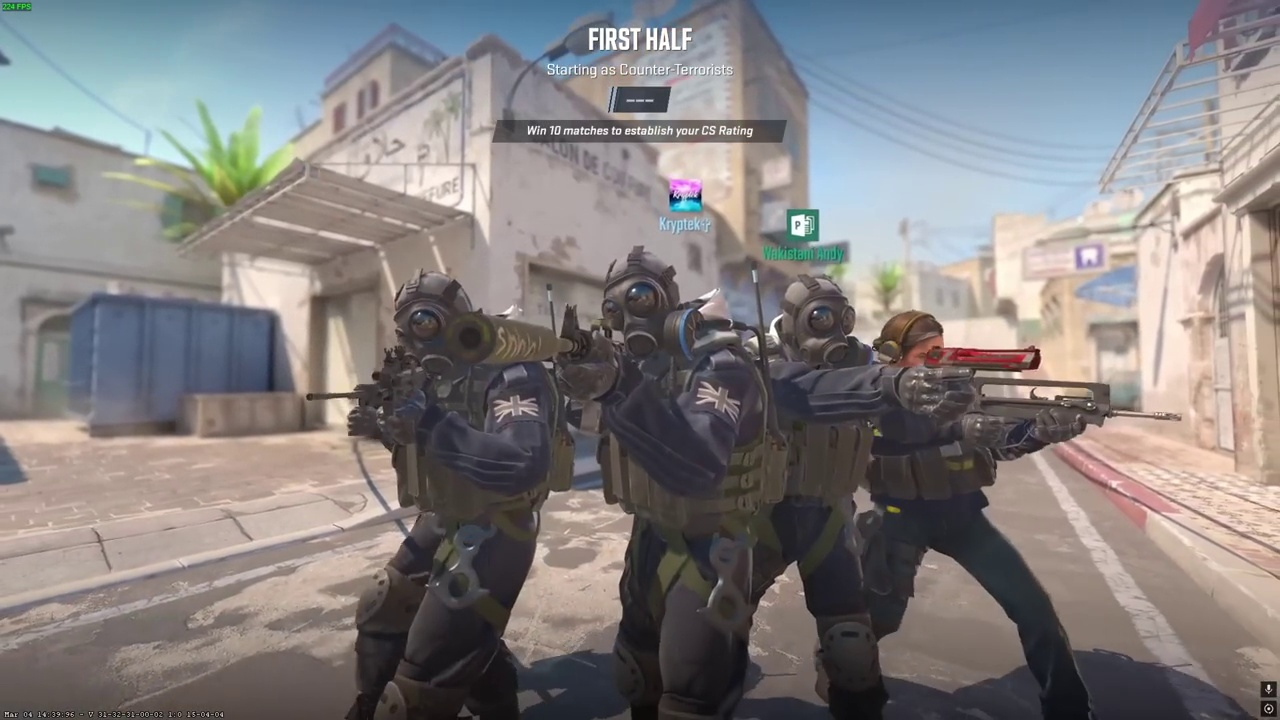CT: (352, 267, 557, 720), (863, 311, 1078, 720), (578, 248, 762, 720), (753, 275, 883, 720)
